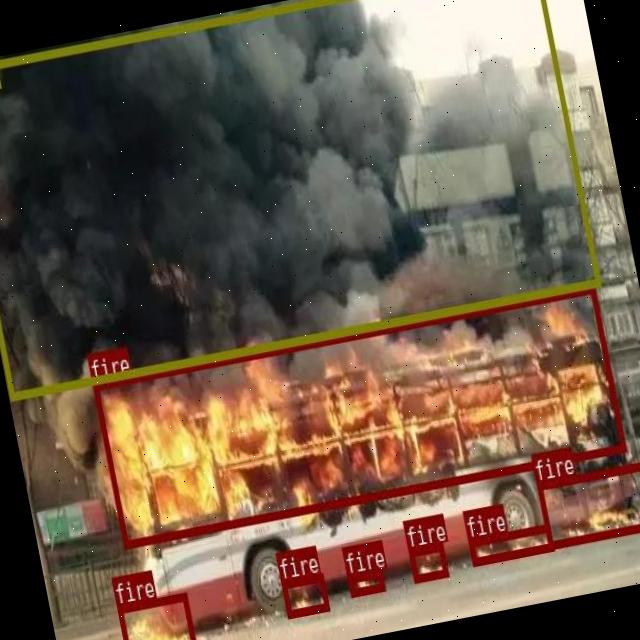fire: (91, 283, 626, 549), (535, 458, 640, 547), (115, 591, 196, 640), (468, 524, 554, 566), (280, 572, 328, 616), (408, 542, 448, 581), (346, 567, 385, 596)
smoke: (0, 0, 600, 400)
